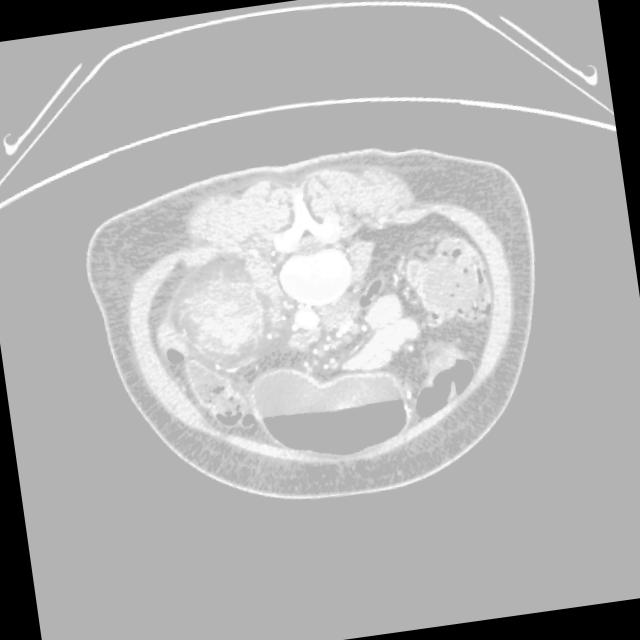TUMOR: (105, 203, 529, 459)
